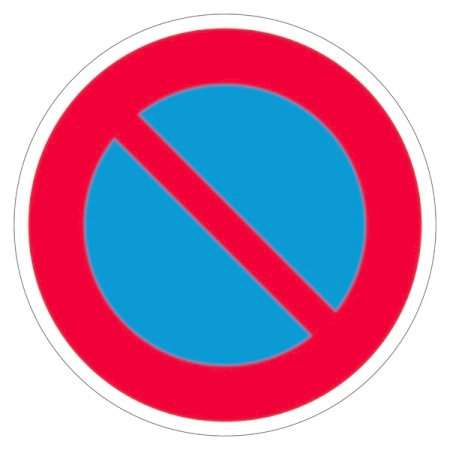Prohibition_sign: (4, 6, 444, 450)
